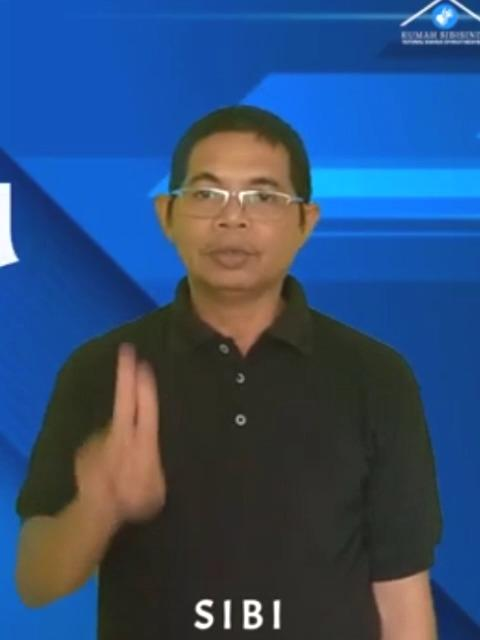U: (72, 339, 178, 529)
